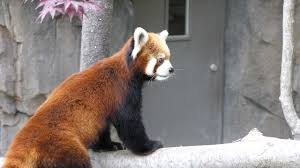redPanda: (5, 22, 178, 168)
